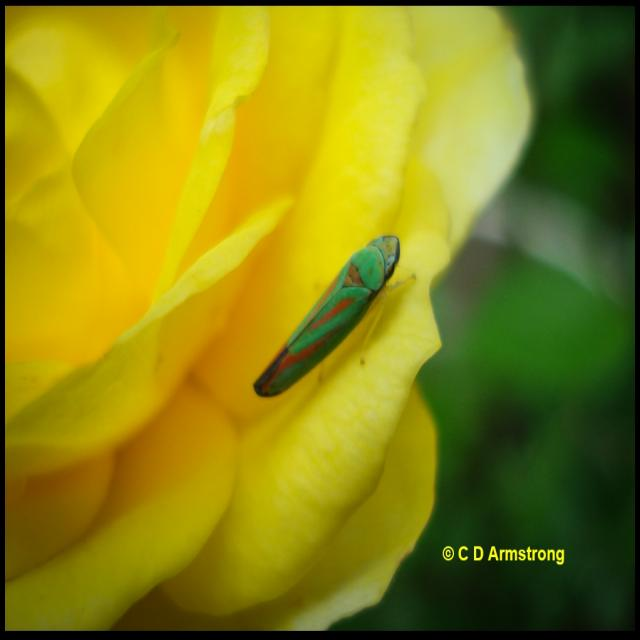Yechan: (242, 227, 421, 404)
